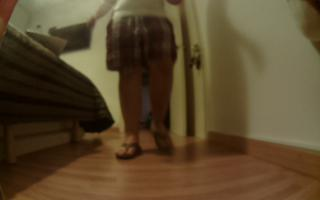person: (88, 1, 203, 163)
